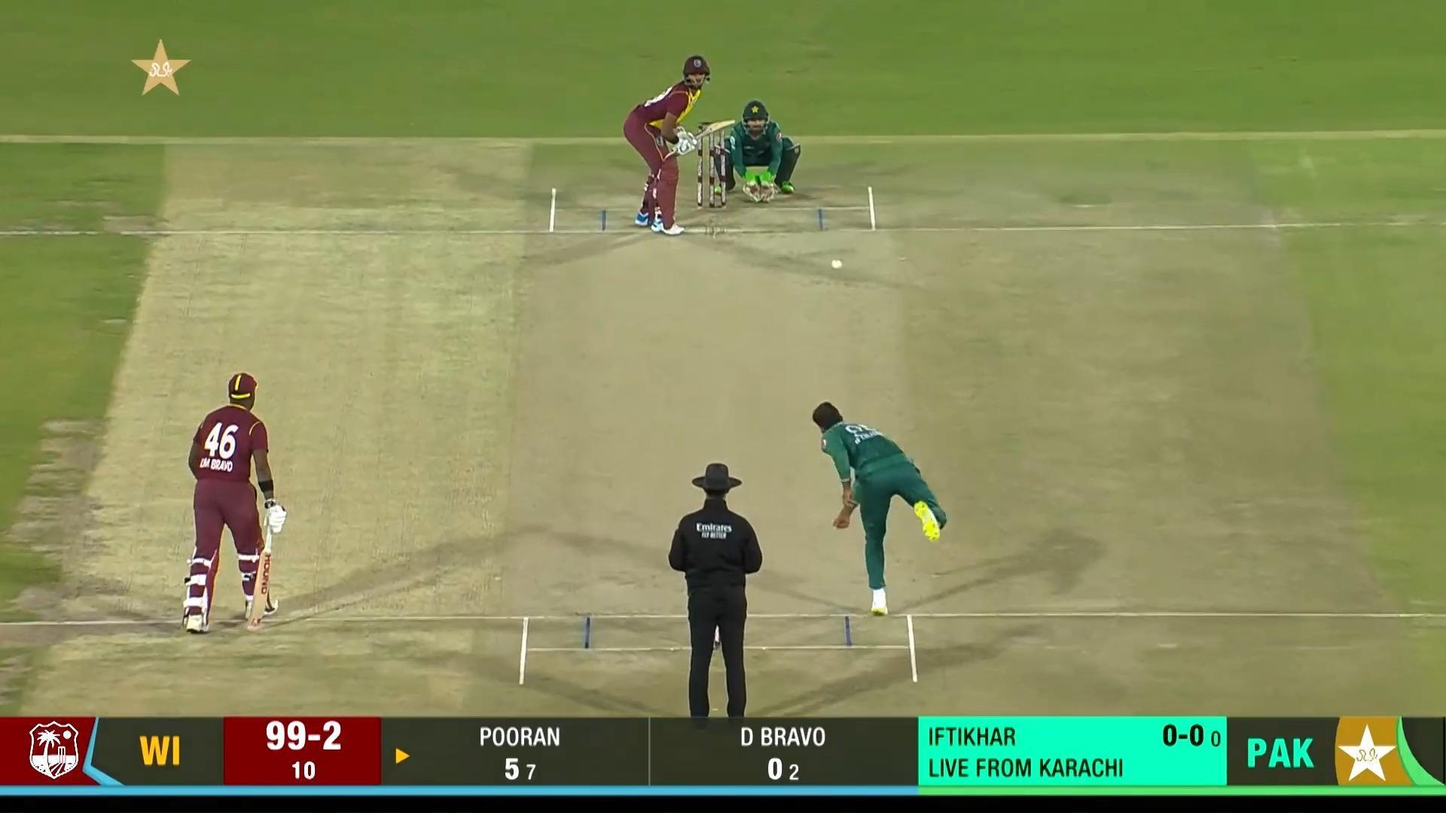BM 1: (623, 55, 735, 236)
BO: (811, 399, 948, 618)
